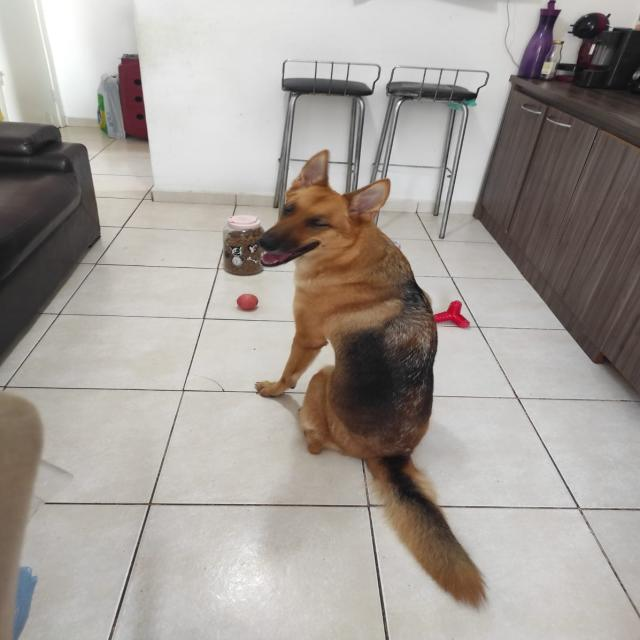bolinha: (229, 286, 266, 313)
brinquedo caro: (434, 291, 482, 338)
cachorro: (270, 152, 509, 612)
racao: (215, 196, 268, 283)
